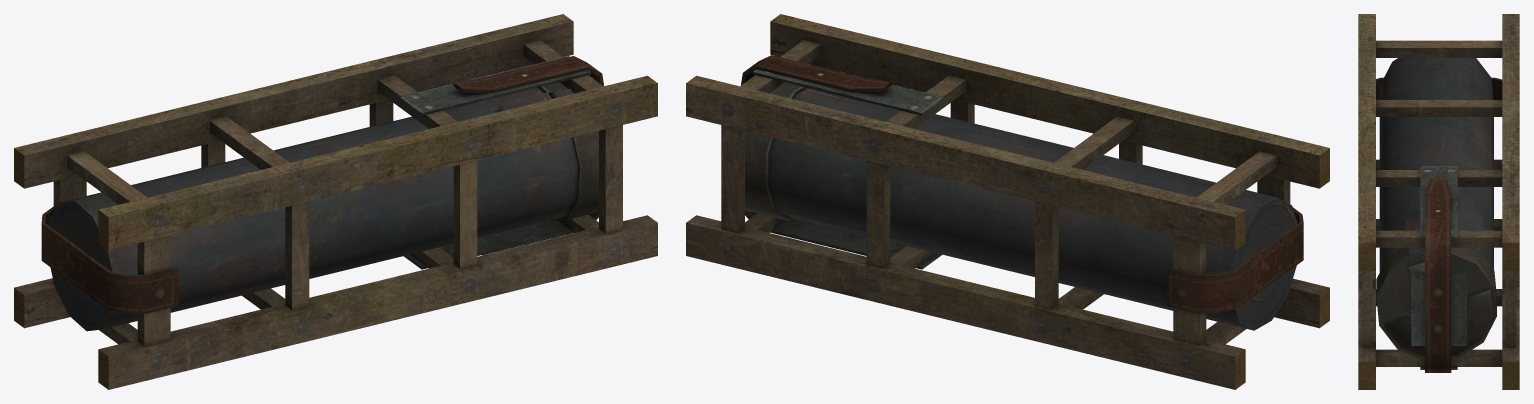
The model's file is VV_ArtyShellCrateFull.fbx.
3 renders of one model, left to right at view 1: azimuth 30°, elevation 25°; view 2: azimuth 150°, elevation 25°; view 3: azimuth 270°, elevation 25°, orthographic. The views are drawn at different scales.
Visible parts, largest first — view 1: VV_ArtyShellCrateFull; view 2: VV_ArtyShellCrateFull; view 3: VV_ArtyShellCrateFull.
Part boxes in pixels (bbox=[...]): VV_ArtyShellCrateFull: bbox=[14, 14, 657, 389]; VV_ArtyShellCrateFull: bbox=[686, 14, 1329, 389]; VV_ArtyShellCrateFull: bbox=[1358, 14, 1519, 389].
Size of the model in its own units: 151 by 45.36 by 44.95.
Materials: 1 (1 with a texture image).
